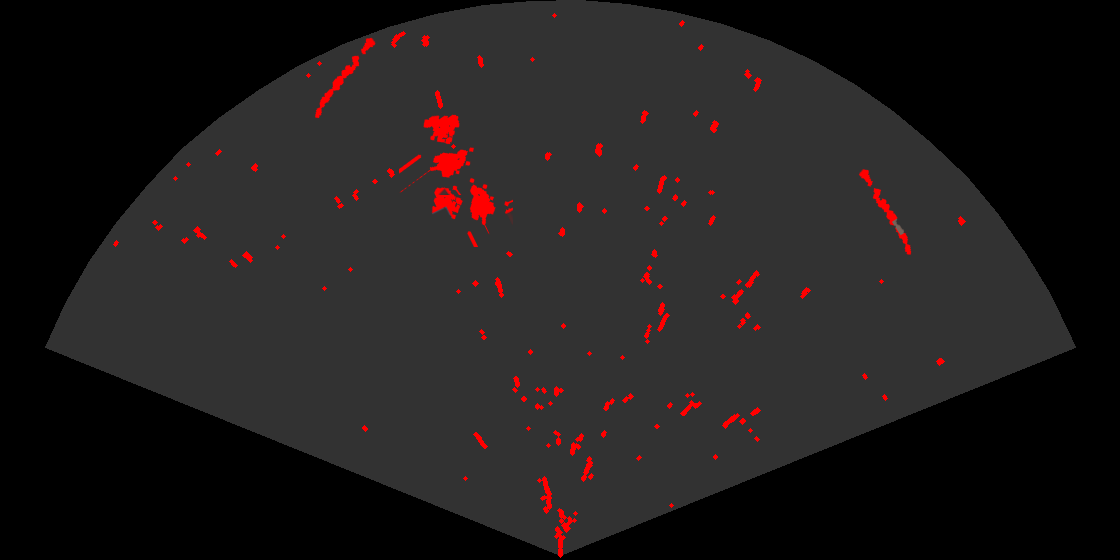cage: (399, 113, 476, 195), (430, 176, 513, 247)
chain: (313, 36, 377, 120), (857, 167, 913, 256)
